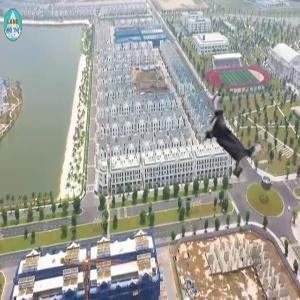drone: (185, 101, 273, 189)
